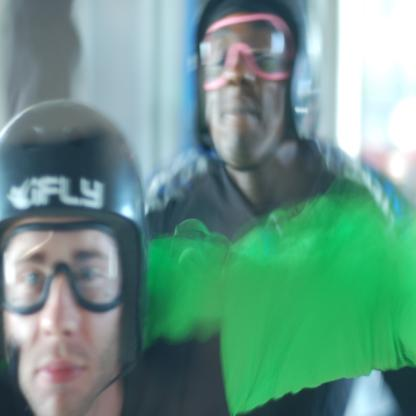Helmet: (0, 98, 142, 364), (190, 0, 313, 173)
